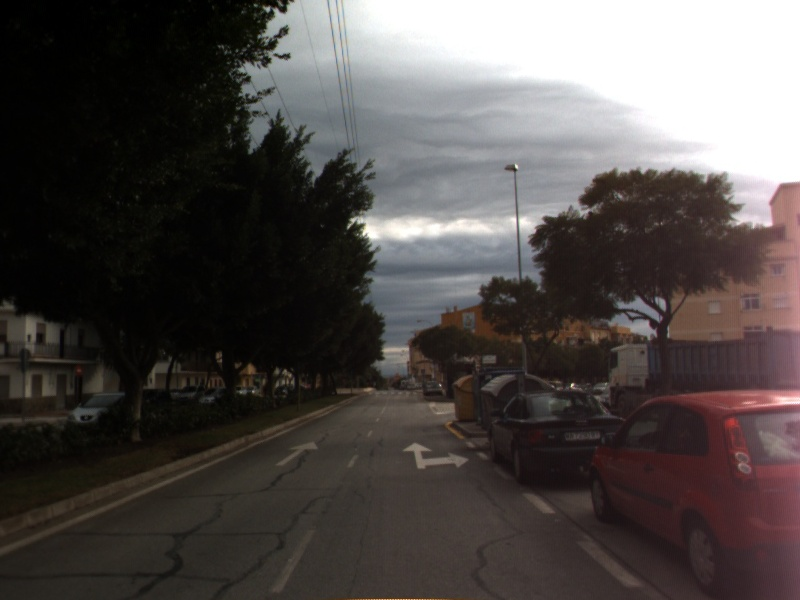STRAIGHT: (273, 439, 320, 468)
STRAIGHT_RIGHT: (400, 440, 472, 471)
